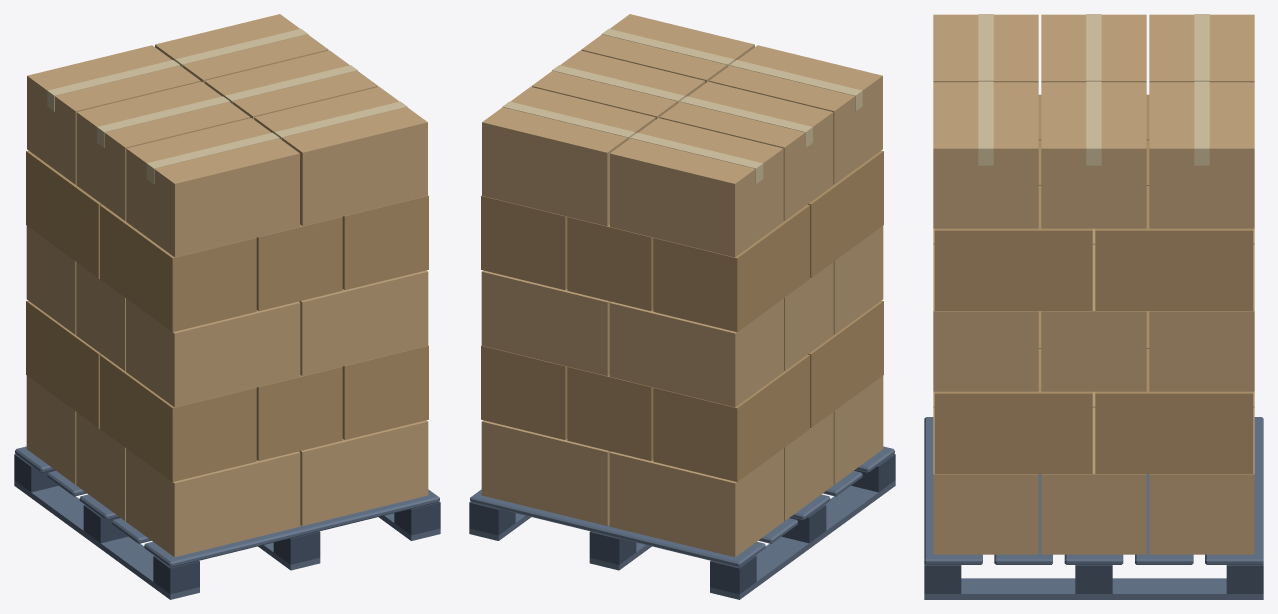
File: pallet_stack.glb
3 renders of one model, left to right at view 1: azimuth 30°, elevation 25°; view 2: azimuth 150°, elevation 25°; view 3: azimuth 270°, elevation 25°, orthographic. The views are drawn at different scales.
Parts seen in each view (by area): view 1: pallet_stack; view 2: pallet_stack; view 3: pallet_stack.
Part boxes in pixels (bbox=[...]): pallet_stack: bbox=[14, 14, 440, 599]; pallet_stack: bbox=[469, 14, 895, 599]; pallet_stack: bbox=[924, 14, 1263, 599].
Size of the model in its own units: 1.1 by 1.6 by 1.1.
